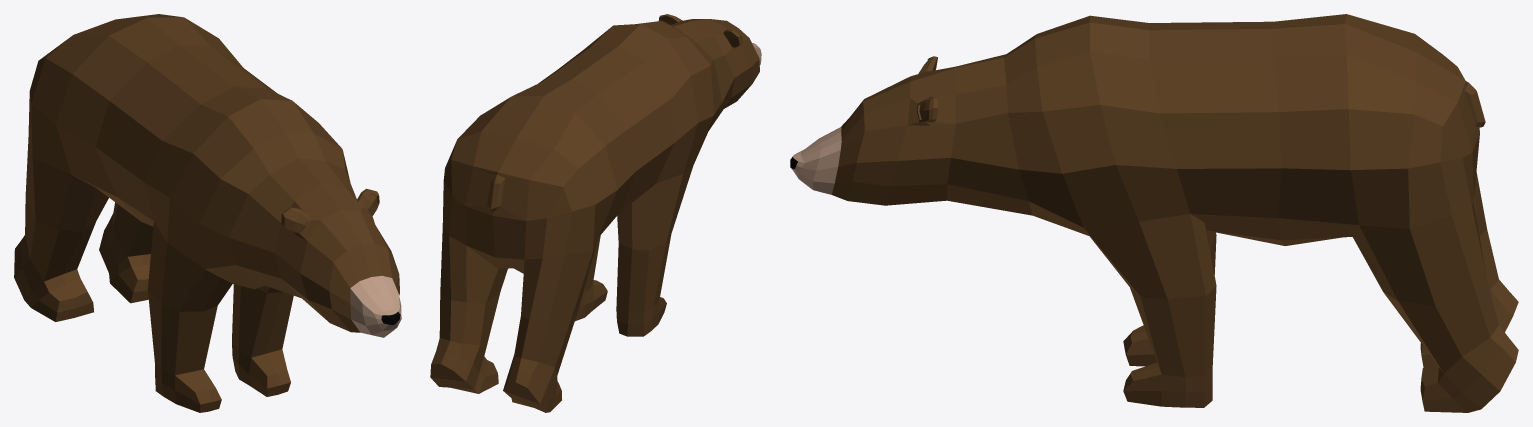
Rendered from bear_free_model.glb.
3 views of the same model, side by side, from view 1: azimuth 30°, elevation 25°; view 2: azimuth 150°, elevation 25°; view 3: azimuth 270°, elevation 25° (orthographic). The views are drawn at different scales.
Visible parts, largest first — view 1: 08bearFinal; view 2: 08bearFinal; view 3: 08bearFinal.
Part boxes in pixels (x1,y1,x2,y2): 08bearFinal: [14, 14, 401, 412]; 08bearFinal: [430, 14, 761, 412]; 08bearFinal: [790, 14, 1518, 412].
Size of the model in its own units: 1.12 by 1.91 by 3.52.
Materials: 1 (1 with a texture image).
